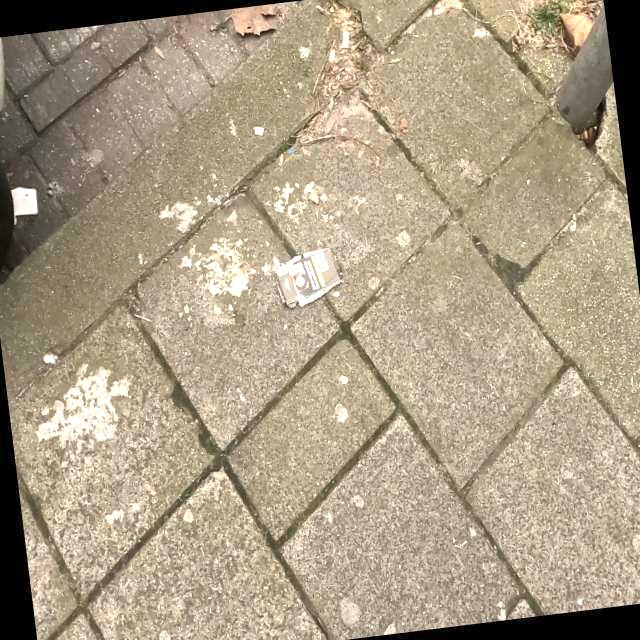Paper: (272, 246, 344, 310)
